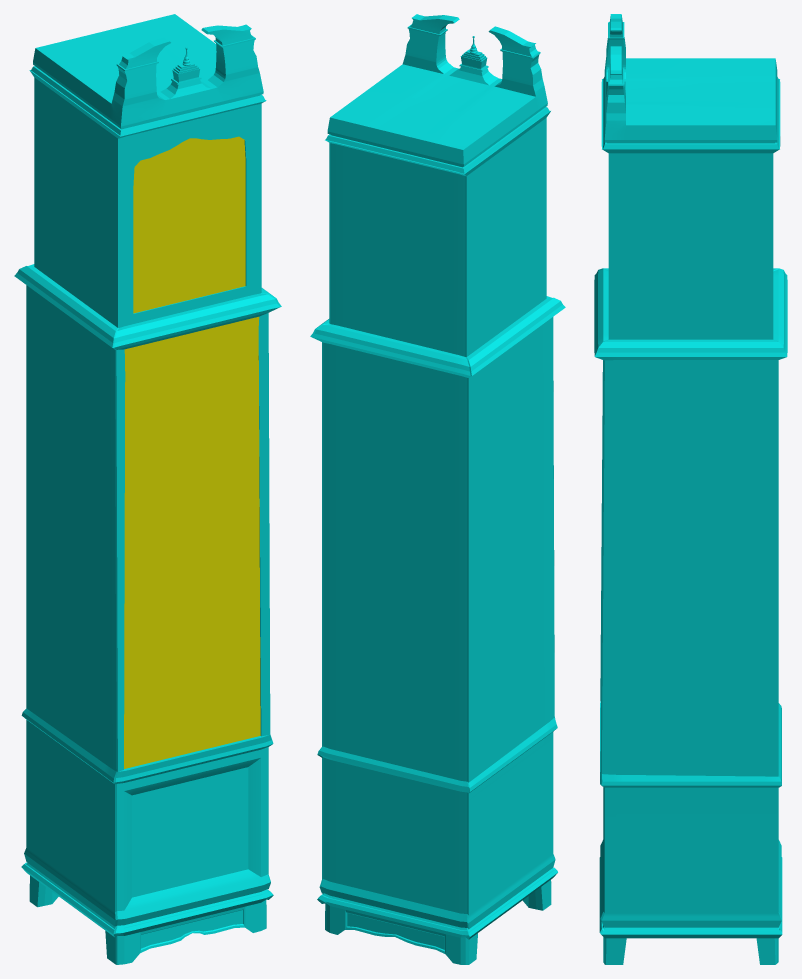
File: clockSketchfab.fbx
The picture shows the model from 3 angles, left to right: view 1: azimuth 30°, elevation 25°; view 2: azimuth 150°, elevation 25°; view 3: azimuth 270°, elevation 25°; orthographic projection. The views are drawn at different scales.
Parts seen in each view (by area): view 1: ClothLP1, Glass3; view 2: ClothLP1; view 3: ClothLP1.
Boxes of the visible parts, x1,y1,x2,y2 form: ClothLP1: (14, 14, 281, 964); Glass3: (124, 136, 260, 768); ClothLP1: (310, 14, 565, 964); ClothLP1: (594, 14, 787, 964).
Bounding box in the file's own units: 121 × 621 × 122.
